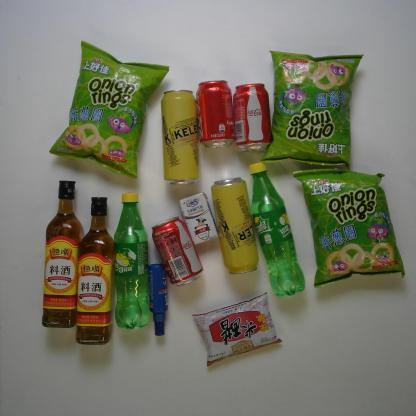Alcohol: (211, 178, 260, 274), (159, 89, 202, 185)
Drink: (250, 159, 306, 297), (112, 190, 152, 329), (150, 217, 203, 286), (230, 82, 274, 152), (195, 78, 234, 147)
Milk: (175, 192, 219, 246)
Personal Hygiene: (147, 263, 171, 336)
Puffed Food: (47, 37, 170, 180), (292, 168, 406, 288), (261, 48, 364, 169)
Seasoner: (191, 293, 283, 366), (40, 180, 82, 328), (75, 196, 115, 347)
